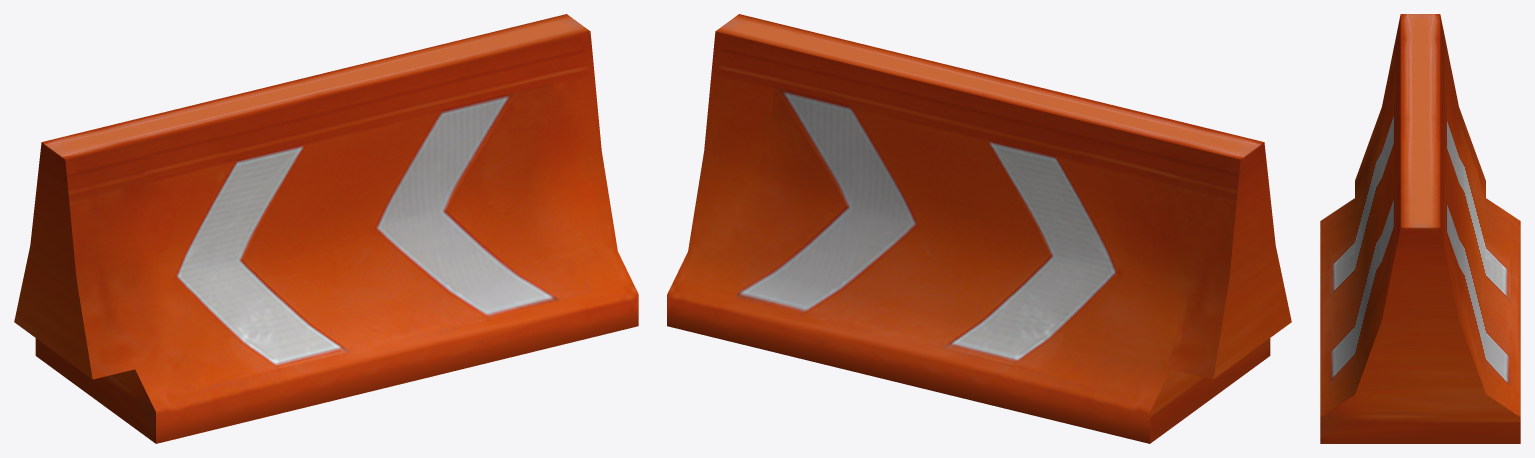
Rendered from Zipper.fbx.
3 renders of one model, left to right at view 1: azimuth 30°, elevation 25°; view 2: azimuth 150°, elevation 25°; view 3: azimuth 270°, elevation 25°, orthographic. The views are drawn at different scales.
Parts seen in each view (by area): view 1: Zipper212; view 2: Zipper212; view 3: Zipper212.
Part boxes in pixels (left/top/right/bottom): Zipper212: left=14, top=14, right=638, bottom=443; Zipper212: left=667, top=14, right=1291, bottom=443; Zipper212: left=1320, top=14, right=1520, bottom=443.
Size of the model in its own units: 218 by 103 by 86.61.
